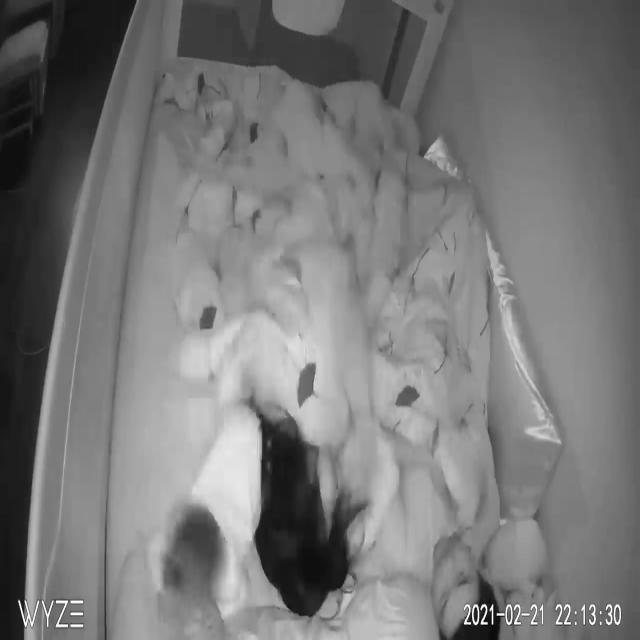baby: (140, 395, 270, 621)
